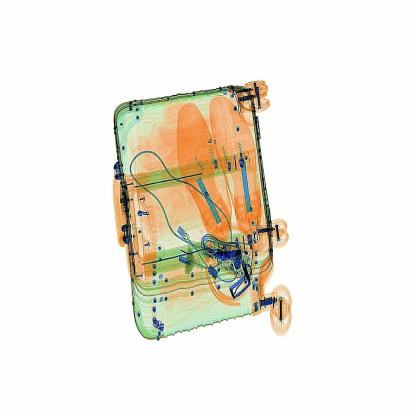knife: (208, 240, 247, 271)
